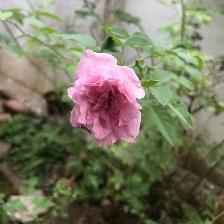rose: (65, 47, 149, 150)
